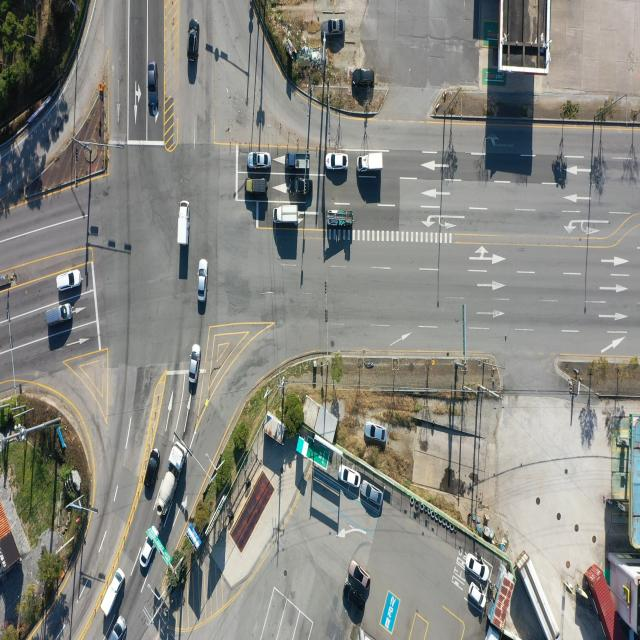car: (139, 527, 159, 570), (344, 584, 367, 620), (145, 448, 160, 494), (45, 303, 72, 327), (468, 554, 490, 582), (148, 61, 158, 117), (57, 270, 81, 293), (339, 464, 362, 488), (351, 562, 371, 588), (361, 484, 382, 508), (470, 584, 487, 612), (364, 422, 386, 442), (198, 259, 208, 301), (108, 617, 126, 640), (245, 177, 268, 194), (352, 68, 375, 85), (188, 343, 198, 382), (328, 152, 349, 169), (188, 27, 198, 61), (324, 19, 344, 36), (289, 182, 310, 198), (250, 152, 272, 167)
medium_truck: (521, 553, 563, 640), (154, 442, 185, 517)
small_truck: (100, 568, 124, 617), (176, 201, 192, 245), (275, 206, 300, 225), (326, 210, 352, 228), (357, 152, 382, 170), (285, 153, 309, 169)
